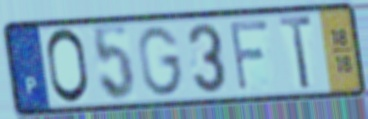3: (185, 21, 228, 97)
5: (87, 23, 139, 104)
F: (227, 17, 272, 95)
G: (135, 24, 186, 98)
O: (44, 26, 92, 107)
T: (277, 13, 315, 92)
